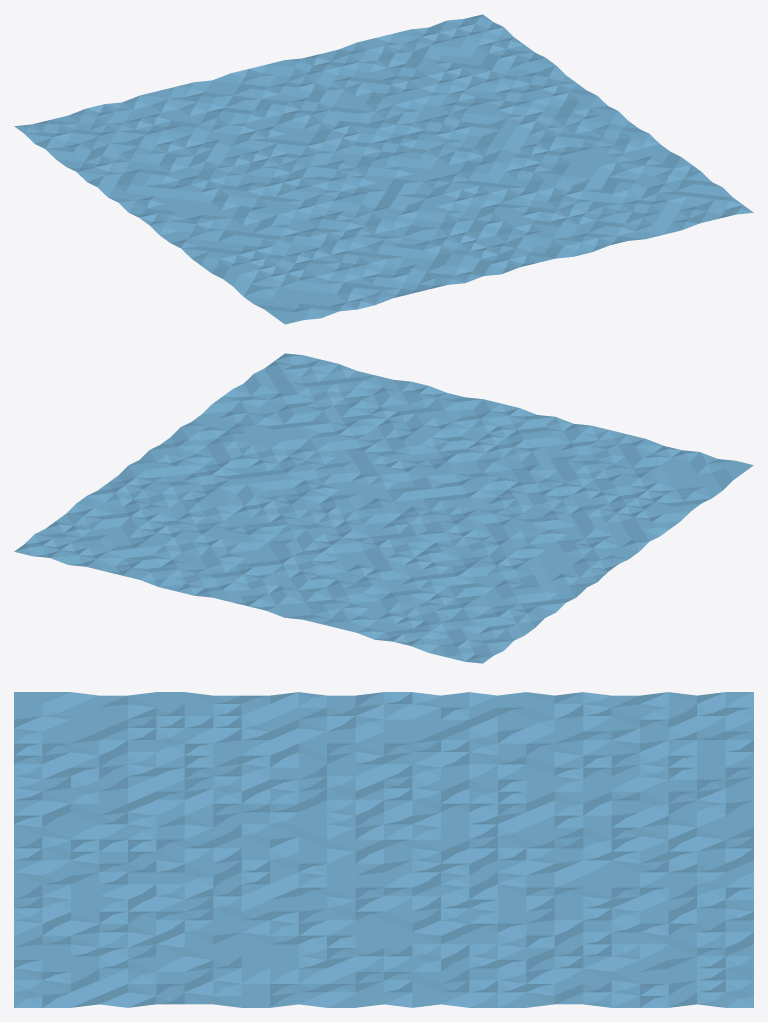
Rendered from ocean.fbx.
3 views of the same model, one above another, from view 1: azimuth 30°, elevation 25°; view 2: azimuth 150°, elevation 25°; view 3: azimuth 270°, elevation 25° (orthographic). The views are drawn at different scales.
Parts seen in each view (by area): view 1: Plane; view 2: Plane; view 3: Plane.
Part boxes in pixels (x1,y1,x2,y2): Plane: (14,14,753,324); Plane: (14,353,753,663); Plane: (14,692,753,1007).
Size of the model in its own units: 11006 by 57.47 by 11021.
